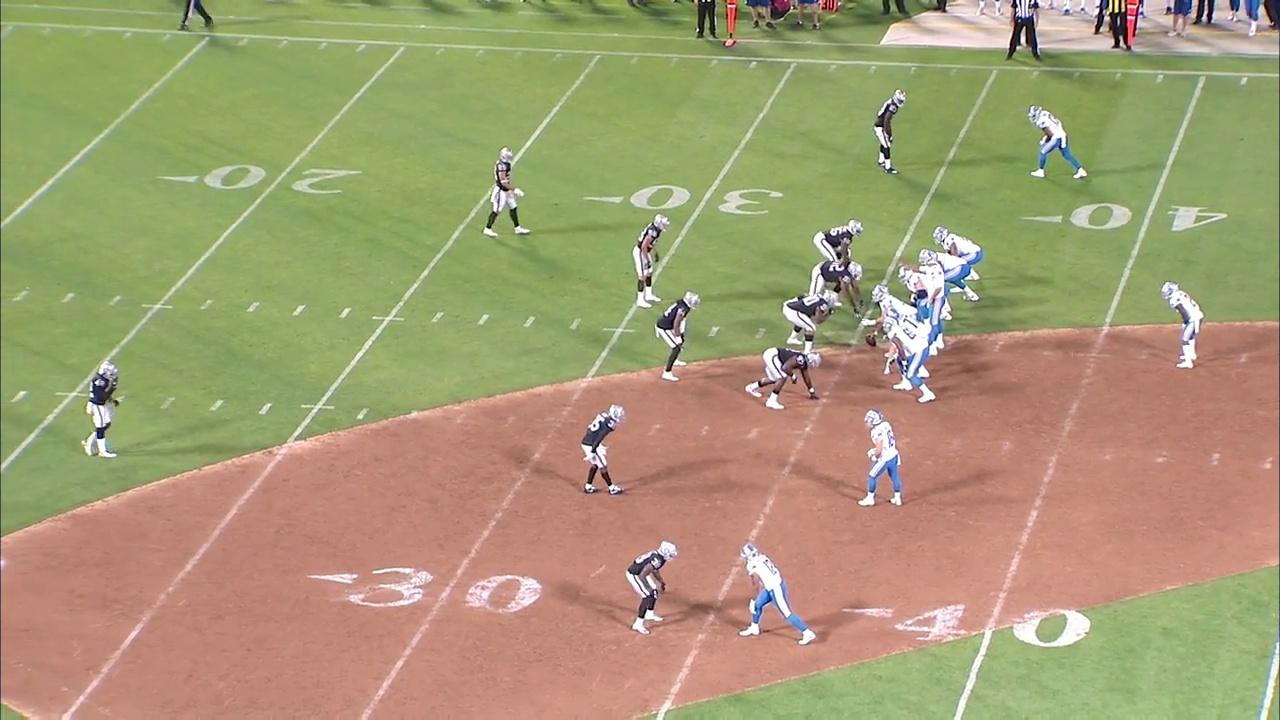player: (736, 541, 818, 647), (621, 538, 682, 640), (894, 249, 948, 358), (743, 345, 825, 413), (854, 407, 907, 509), (1025, 103, 1090, 183), (781, 259, 866, 319), (881, 314, 937, 405), (481, 144, 534, 239), (576, 402, 628, 498), (651, 290, 702, 383), (78, 358, 123, 460), (1159, 279, 1206, 372), (860, 282, 925, 349), (918, 248, 982, 314), (631, 212, 672, 310), (780, 288, 840, 354), (882, 304, 934, 380), (895, 262, 954, 327), (931, 224, 984, 294), (871, 86, 908, 178), (811, 217, 866, 263)
ref: (998, 0, 1047, 67)
